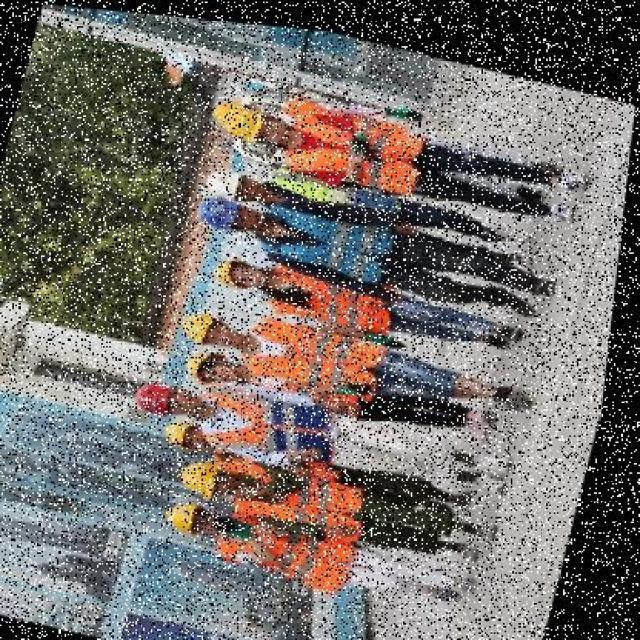helmet: (194, 183, 261, 233), (135, 366, 197, 416), (219, 92, 279, 140), (182, 300, 242, 348), (171, 488, 230, 536), (168, 408, 219, 450), (206, 157, 258, 197)
vest: (285, 97, 426, 192), (211, 375, 345, 465), (249, 308, 388, 394), (235, 449, 373, 531), (266, 192, 398, 274), (225, 506, 361, 578), (270, 262, 403, 333)
